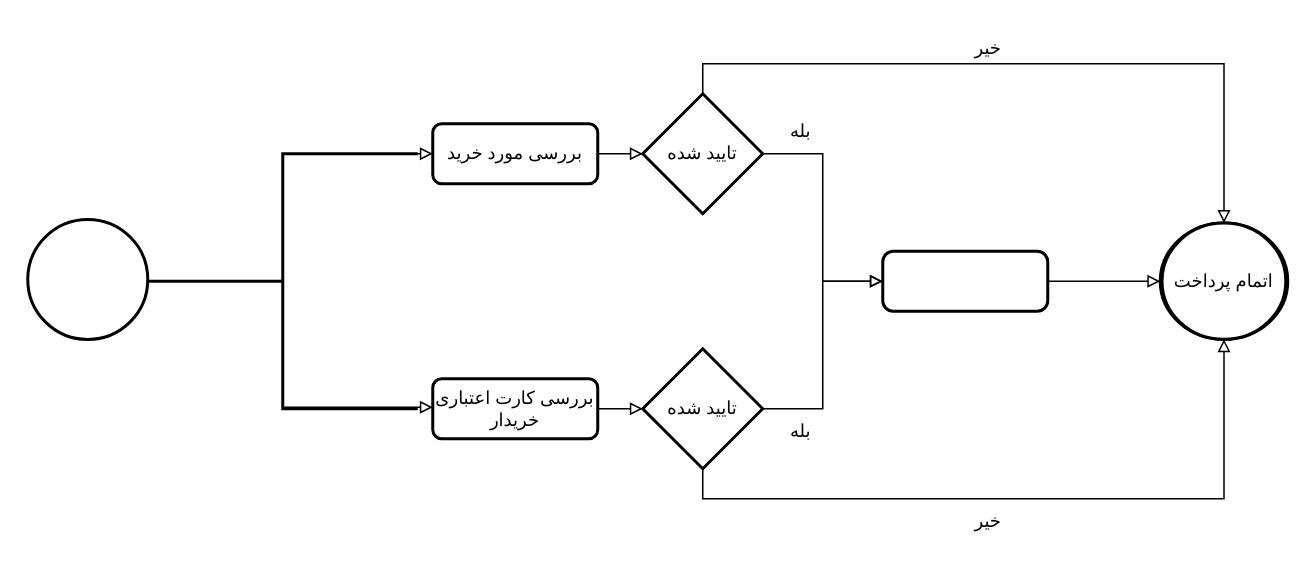
Some shapes in this 1314 by 569 pixel diagram are drawn without their labels. Here are the shapes that lost their labels. From the top down, the centre of each, then its label:
point 87,278: شروع فراروند پرداخت
point 964,280: پرداخت از کارت اعتباری
